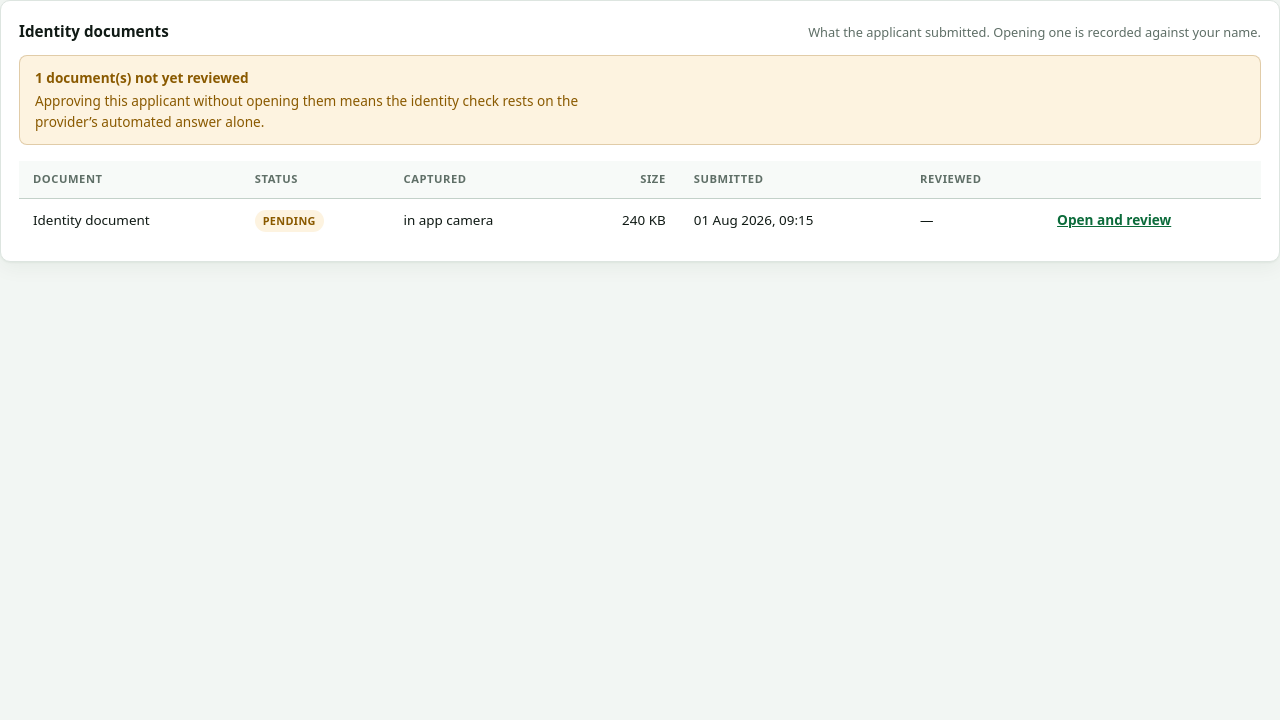
Test: opening one document › says so when the bytes cannot be fetched, rather than showing an empty frame
Step 1. Click the button "Open and review" → (1114, 220), box [1057, 210, 1171, 230]
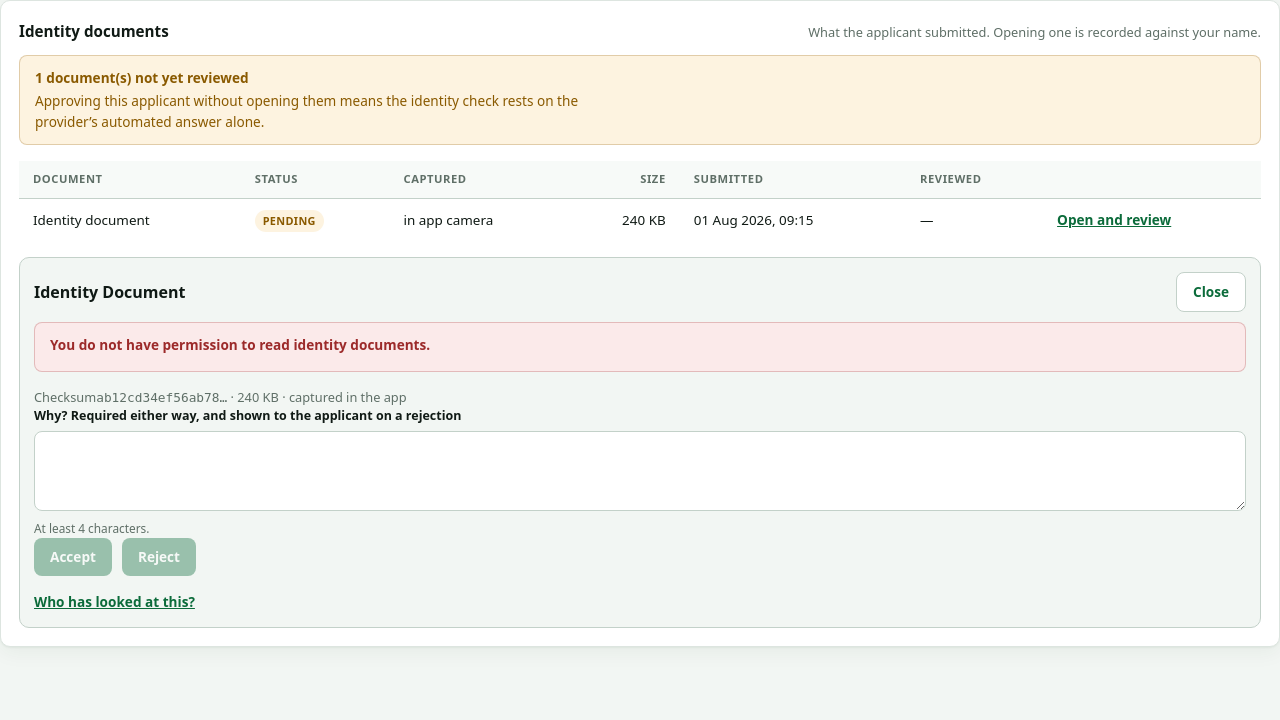
Expected: the text "You do not have permission to read identity documents." is shown, [50, 336, 430, 354]
